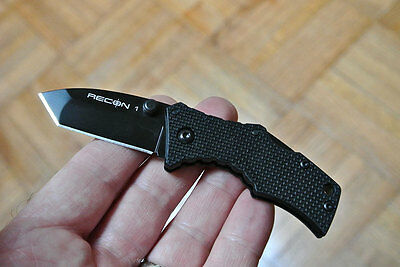knief: (33, 76, 353, 231)
